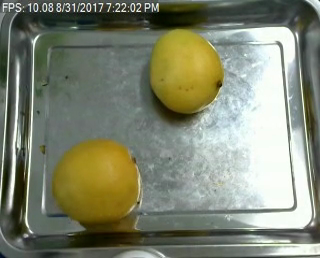Mango: (51, 136, 141, 224), (148, 27, 225, 113)
